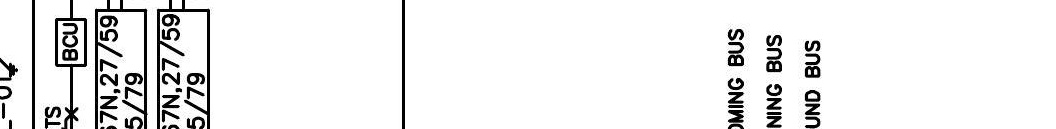BCU: (54, 17, 88, 68)
